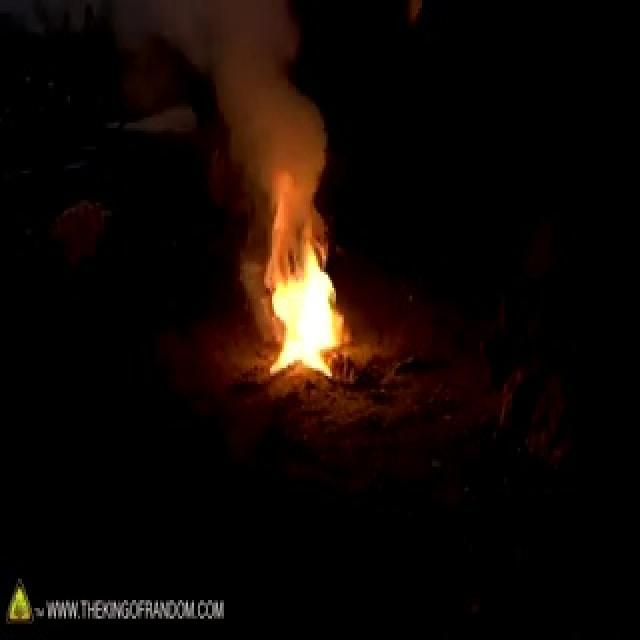Fire: (266, 190, 354, 382)
Smoke: (183, 0, 333, 180)
